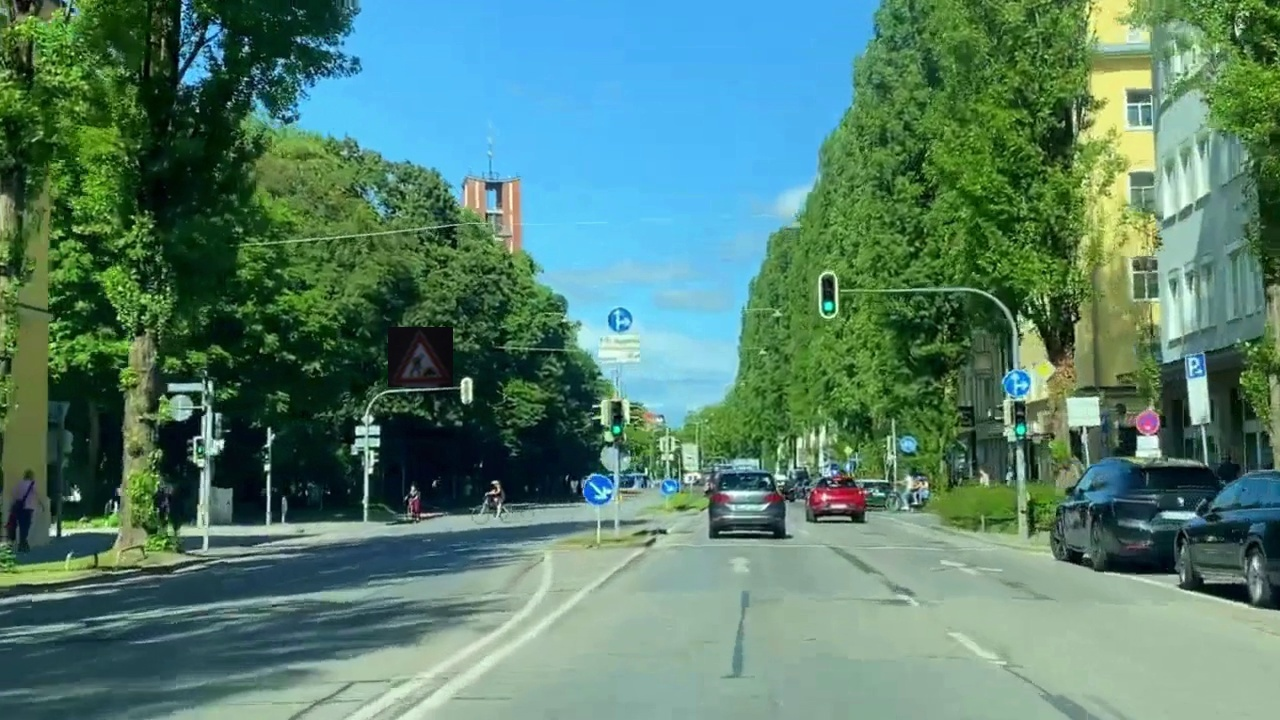Road work: (388, 327, 453, 387)
